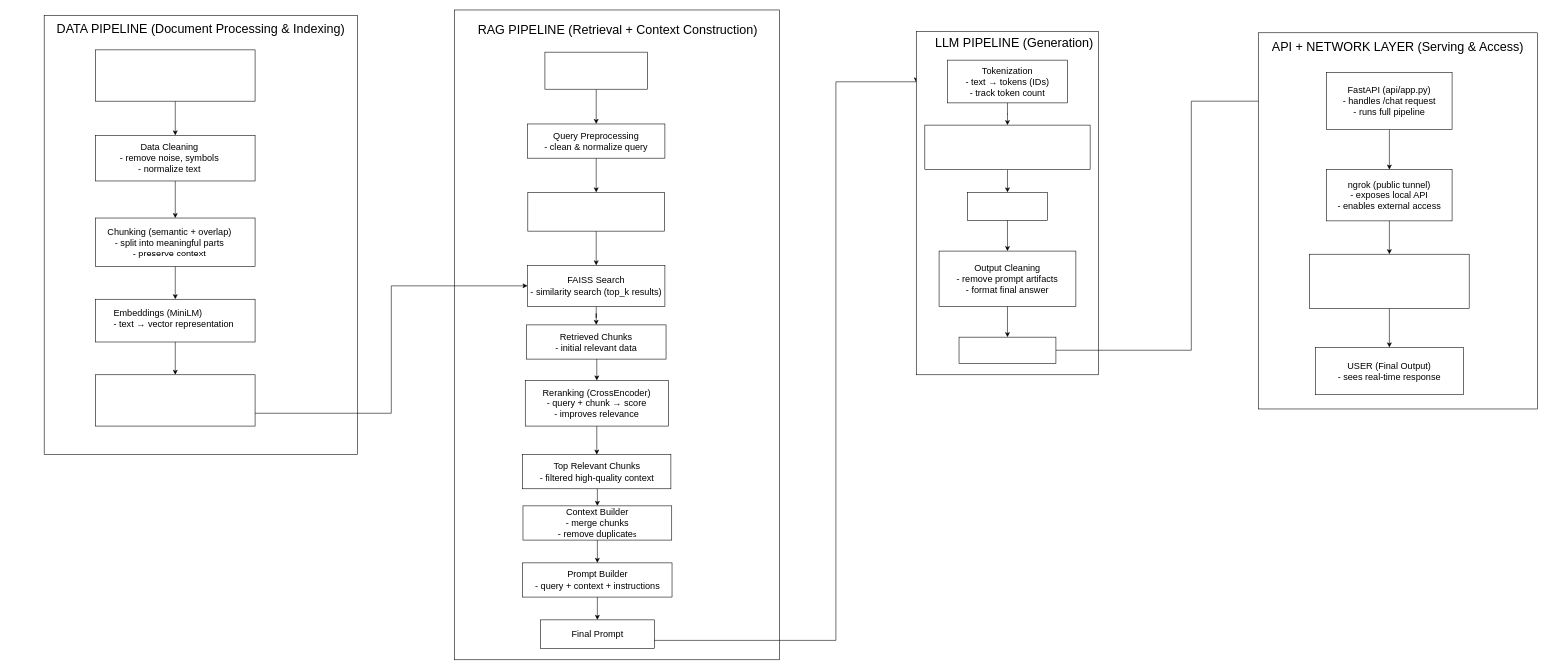
The diagram is 1548 pixels wide and 670 high, and some of its shapes have lost their labels. The shapes that lost their labels are listed below. From the top down, each one's centre as x and y in pixels, then its label:
At point (175, 75): "Documents (PDF / Text / Files)".
At point (596, 70): "User Query".
At point (1007, 147): "TinyLlama LLM - processes tokens - generates answer using context".
At point (596, 211): "Query Embedding (MiniLM) - convert query → vector".
At point (1007, 206): "Raw Output".
At point (1389, 281): "Gradio UI - user interface - displays answer + chunks + tokens".
At point (1007, 350): "Generated Answer".
At point (175, 400): "FAISS Vector DB - store embeddings - enable fast similarity search".
